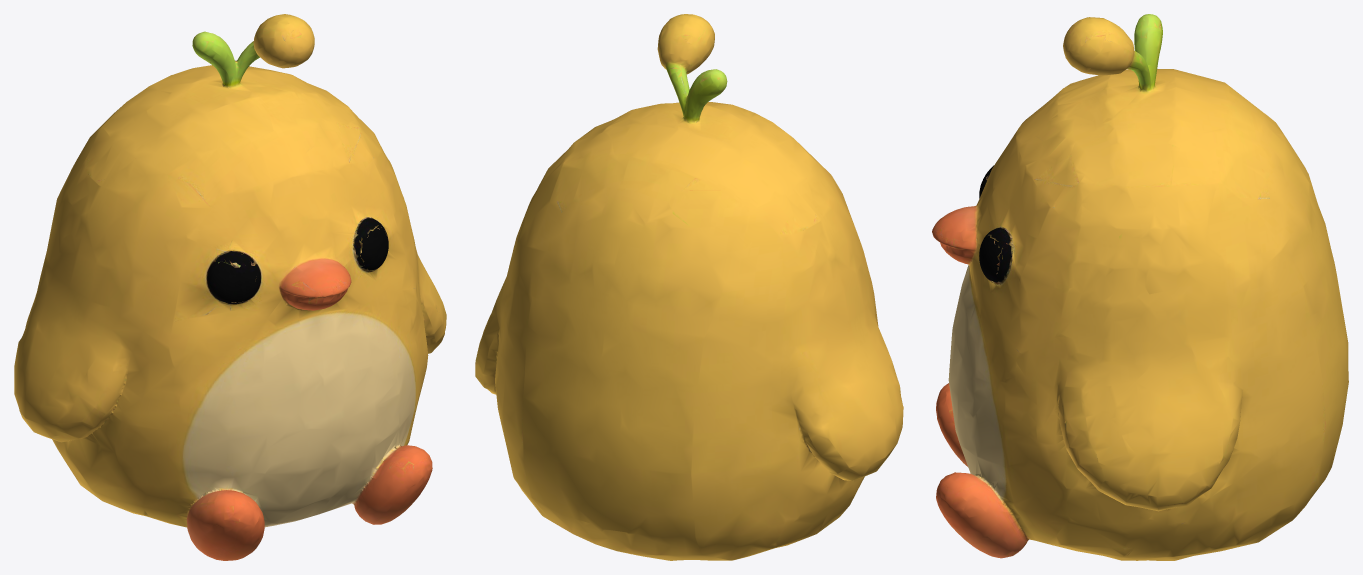
The model's file is goldie.glb.
3 renders of one model, left to right at view 1: azimuth 30°, elevation 25°; view 2: azimuth 150°, elevation 25°; view 3: azimuth 270°, elevation 25°, orthographic. The views are drawn at different scales.
Size of the model in its own units: 1.67 by 1.91 by 1.41.
Materials: 1 (1 with a texture image).
